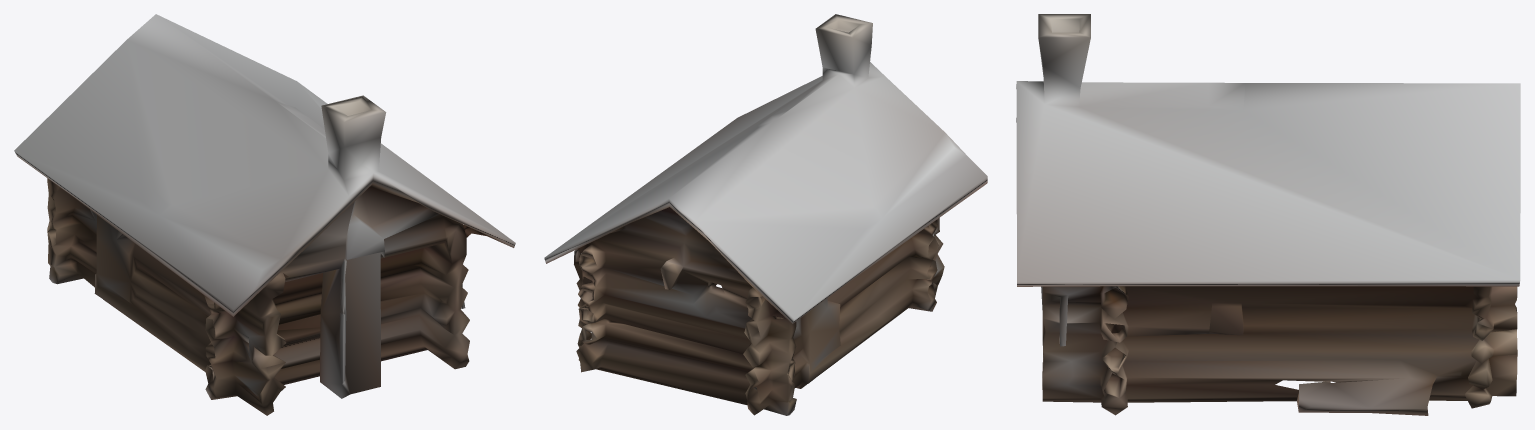
Rendered from cabin_near.glb.
3 renders of one model, left to right at view 1: azimuth 30°, elevation 25°; view 2: azimuth 150°, elevation 25°; view 3: azimuth 270°, elevation 25°, orthographic. The views are drawn at different scales.
Parts seen in each view (by area): view 1: cabin; view 2: cabin; view 3: cabin.
Boxes of the visible parts, box(x1,y1,x2,y2) form: cabin: box(14, 14, 515, 415); cabin: box(544, 14, 987, 415); cabin: box(1016, 14, 1520, 415).
Bounding box in the file's own units: 1.06 × 1 × 1.42.
